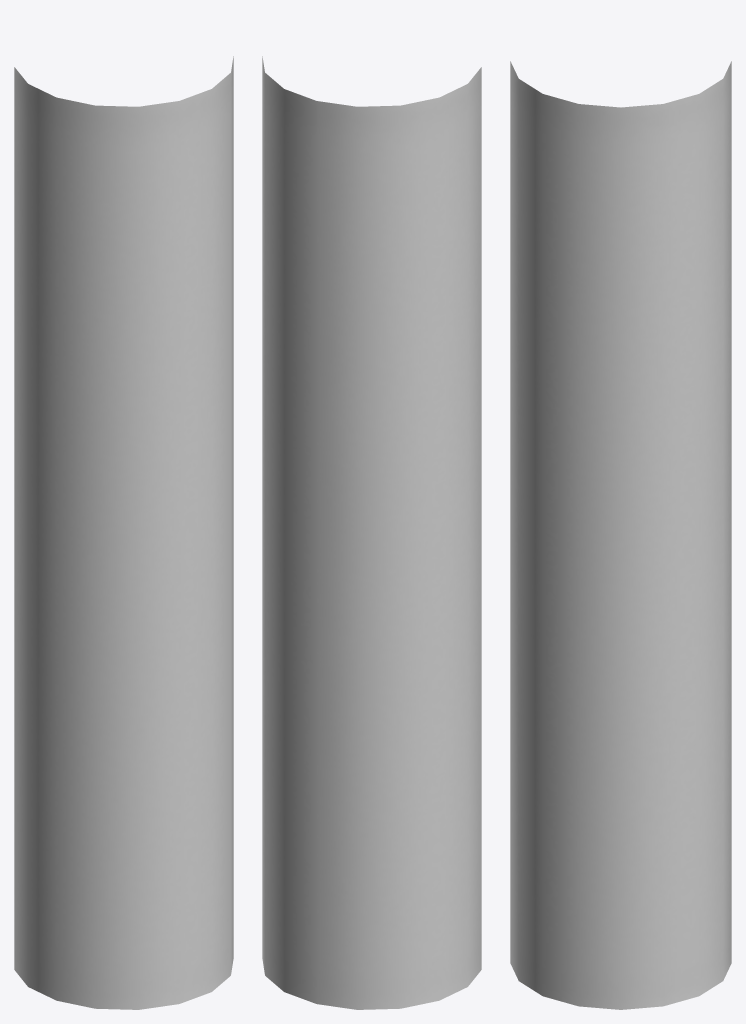
Rendered from Pillar1x4_5Rnd.gltf.
The picture shows the model from 3 angles, left to right: view 1: azimuth 30°, elevation 25°; view 2: azimuth 150°, elevation 25°; view 3: azimuth 270°, elevation 25°; orthographic projection.
Visible parts, largest first — view 1: Pillar1x4_5RndShape; view 2: Pillar1x4_5RndShape; view 3: Pillar1x4_5RndShape.
Boxes of the visible parts, left/top/right/bottom form: Pillar1x4_5RndShape: left=14, top=56, right=233, bottom=1009; Pillar1x4_5RndShape: left=262, top=56, right=481, bottom=1009; Pillar1x4_5RndShape: left=510, top=61, right=731, bottom=1009.
Bounding box in the file's own units: 1 × 4.5 × 1.
Materials: 1 (1 with a texture image).
